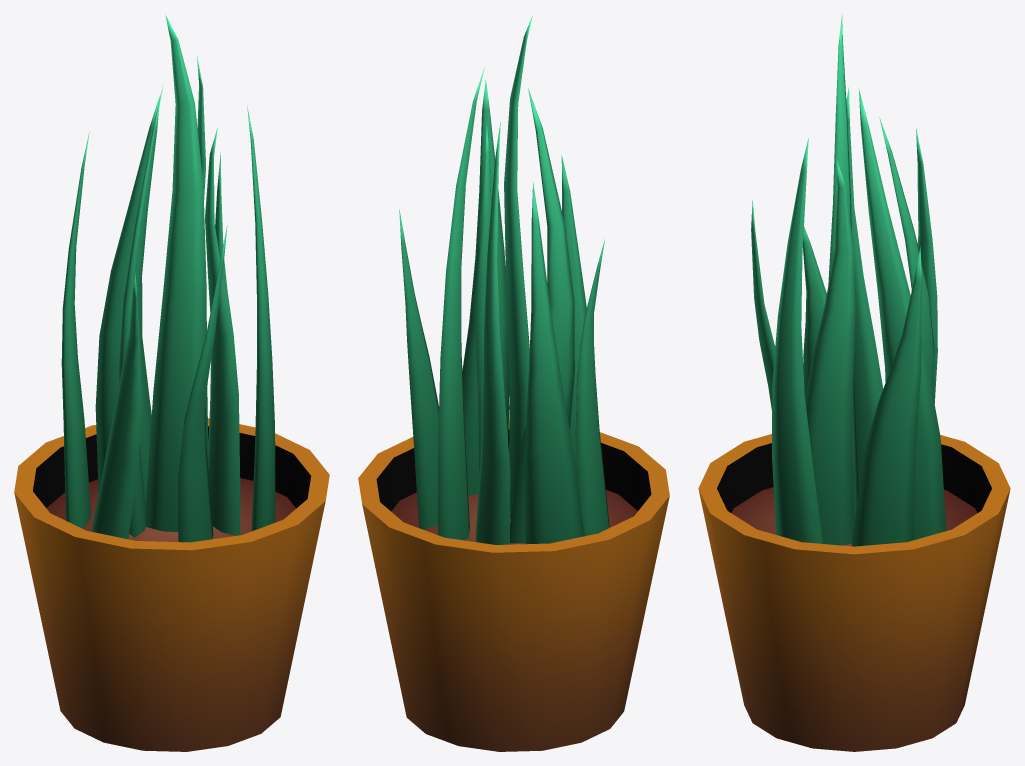
Rendered from Plant 1.fbx.
The picture shows the model from 3 angles, left to right: view 1: azimuth 30°, elevation 25°; view 2: azimuth 150°, elevation 25°; view 3: azimuth 270°, elevation 25°; orthographic projection.
Visible parts, largest first — view 1: Pot 1, Plant 1; view 2: Pot 1, Plant 1; view 3: Pot 1, Plant 1.
Boxes of the visible parts, x1,y1,x2,y2 form: Pot 1: (14,418,329,751); Plant 1: (61,15,275,542); Pot 1: (358,422,669,751); Plant 1: (399,15,609,544); Pot 1: (698,434,1010,751); Plant 1: (751,14,946,546).
Bounding box in the file's own units: 200 × 484 × 200.
